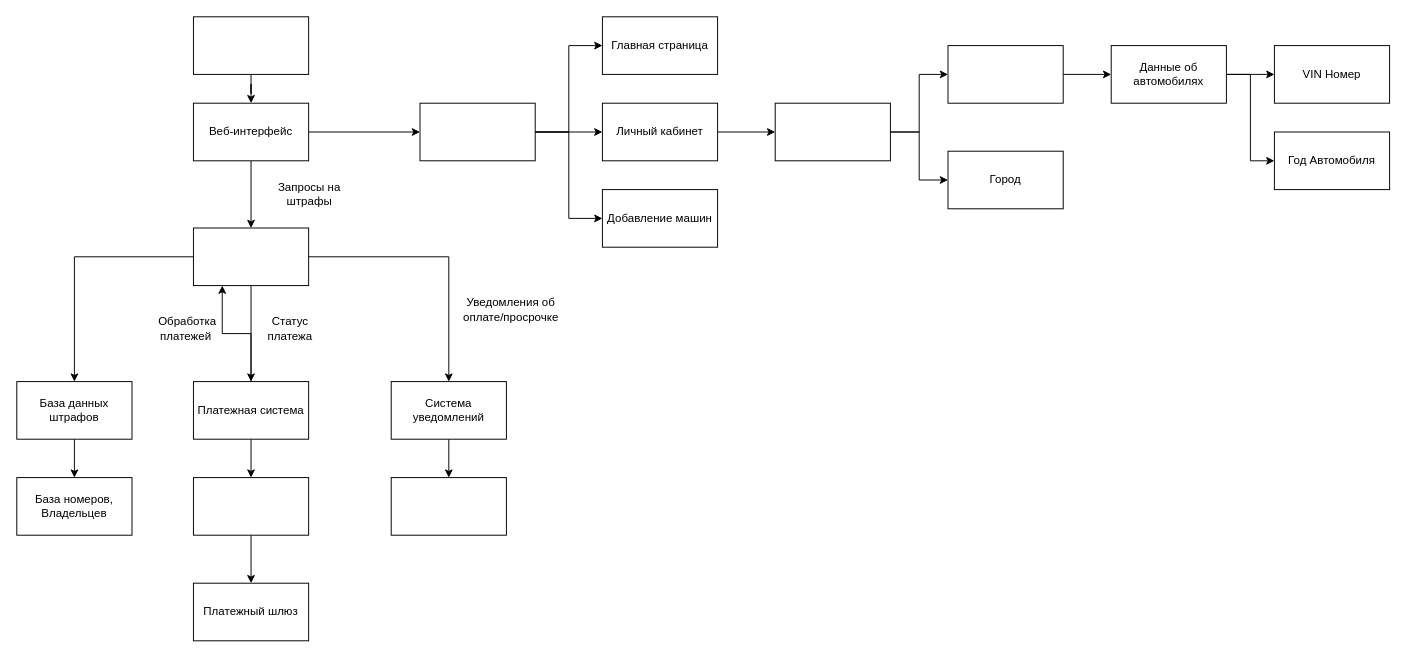
Some shapes in this 1406 by 658 pixel diagram are drawn without their labels. Here are the shapes that lost their labels. From the top down, the box of each, then its label:
(192, 16, 309, 74): Приложение проверка штрафов и их оплата
(947, 45, 1063, 103): Количество автомобилей
(419, 102, 535, 161): Создание вкладок
(774, 102, 890, 161): Заполнение разделов
(192, 227, 309, 286): API Штрафов
(192, 477, 309, 535): Выбор метода
(390, 477, 506, 535): СМС/Почта
